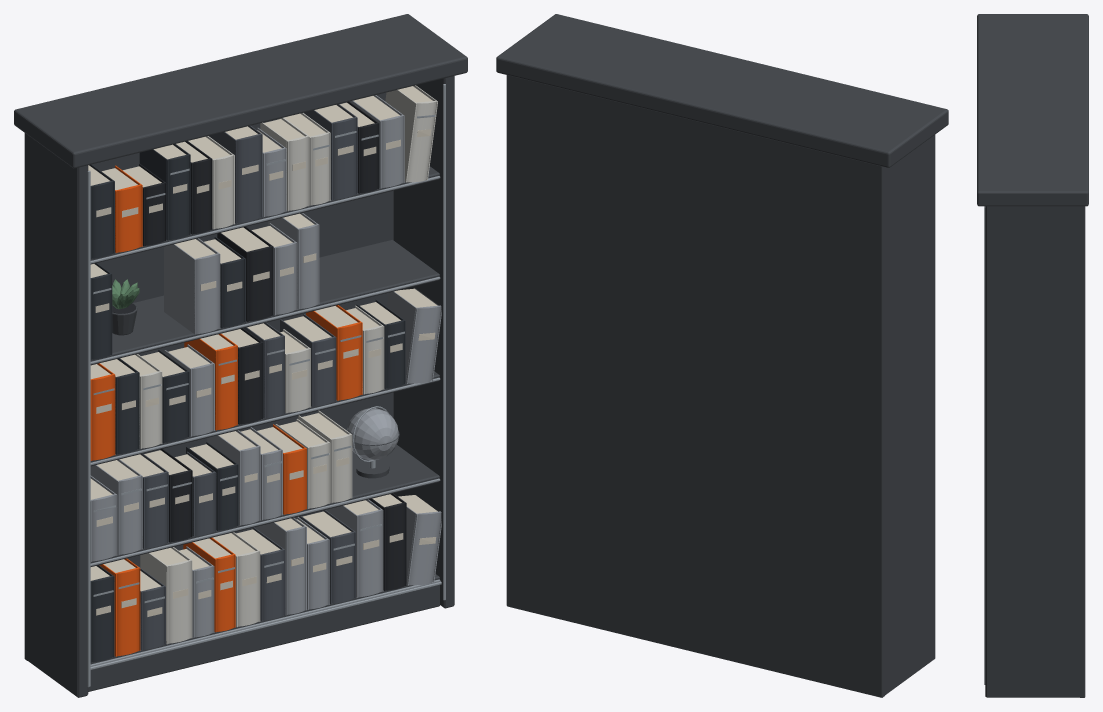
File: bookshelf.glb
3 views of the same model, side by side, from view 1: azimuth 30°, elevation 25°; view 2: azimuth 150°, elevation 25°; view 3: azimuth 270°, elevation 25° (orthographic). The views are drawn at different scales.
Visible parts, largest first — view 1: BookshelfStatic; view 2: BookshelfStatic; view 3: BookshelfStatic.
Part boxes in pixels (<box>): BookshelfStatic: <box>14,14,467,697</box>; BookshelfStatic: <box>496,14,948,697</box>; BookshelfStatic: <box>977,14,1088,697</box>.
Bounding box in the file's own units: 1.78 × 2.37 × 0.47.
